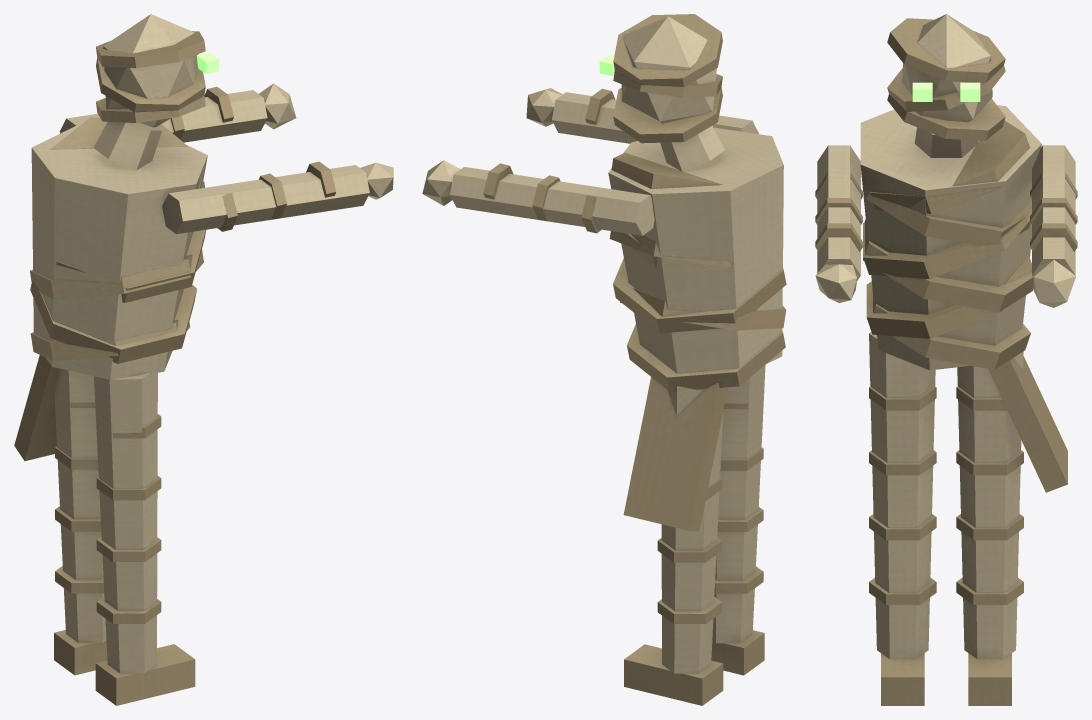
File: mumie_tex.glb
3 views of the same model, side by side, from view 1: azimuth 30°, elevation 25°; view 2: azimuth 150°, elevation 25°; view 3: azimuth 270°, elevation 25° (orthographic). The views are drawn at different scales.
Visible parts, largest first — view 1: Kropp, BenH, BenV, ArmH, ArmV; view 2: Kropp, BenV, BenH, ArmV, ArmH; view 3: Kropp, BenH, BenV, ArmV, ArmH.
Part boxes in pixels (x1,y1,x2,y2): Kropp: (14, 14, 219, 460); BenH: (94, 372, 195, 705); BenV: (54, 368, 107, 675); ArmH: (162, 161, 393, 234); ArmV: (59, 83, 296, 142); Kropp: (599, 14, 786, 531); BenV: (624, 386, 723, 705); BenH: (711, 365, 765, 675); ArmV: (422, 160, 654, 235); ArmH: (526, 88, 758, 143); Kropp: (860, 14, 1067, 492); BenH: (869, 332, 936, 705); BenV: (956, 351, 1023, 705); ArmV: (1030, 145, 1077, 307); ArmH: (815, 145, 862, 302).
Bounding box in the file's own units: 0.9141 × 1.9 × 0.66.
3 materials, 2 textured.
